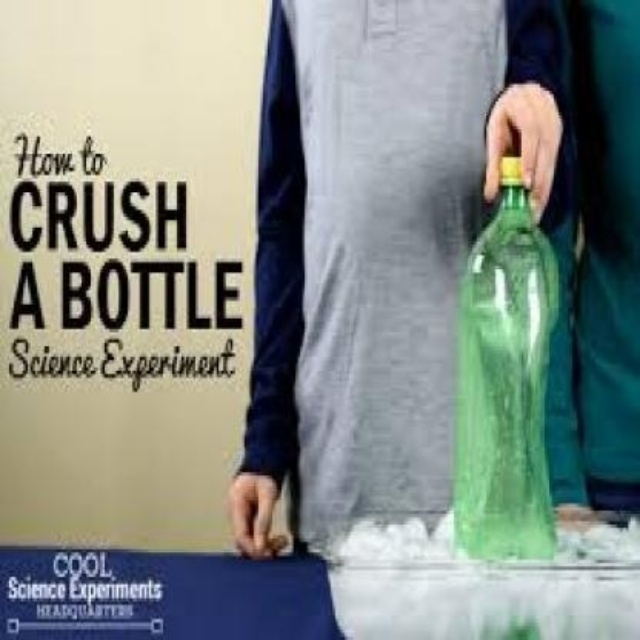trash: (454, 169, 557, 558)
